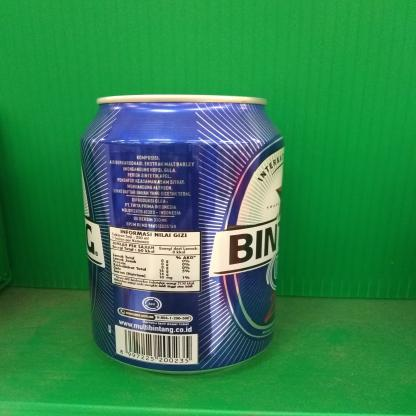can: (71, 87, 288, 375)
